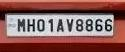0: (36, 18, 46, 31)
1: (47, 18, 54, 32)
6: (103, 17, 112, 32), (94, 18, 103, 31)
8: (84, 18, 93, 31), (75, 18, 83, 31)
A: (55, 18, 64, 32)
H: (26, 16, 35, 32)
M: (16, 16, 25, 32)
V: (65, 17, 73, 31)
